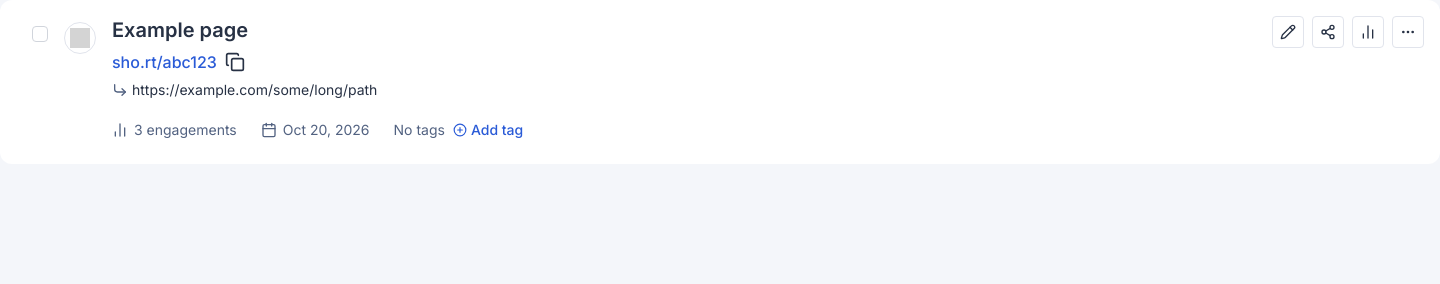
Scenario: LinkCard › disables Delete with a tooltip when the link is redirected
This screenshot has width=1440, height=284.
Click the button named "More" at {"x": 1408, "y": 32}, box 1392,16 -> 1424,48
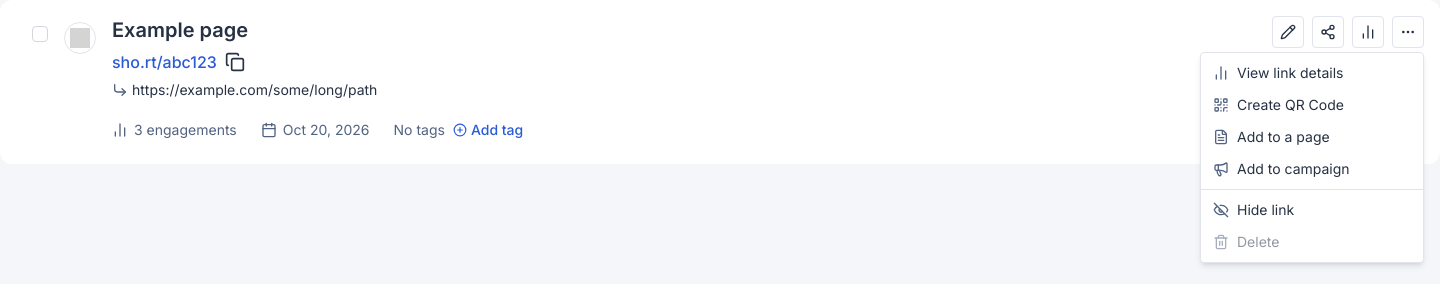
Hover over the menu item "Delete" at {"x": 1246, "y": 242}, box 1213,233 -> 1279,250
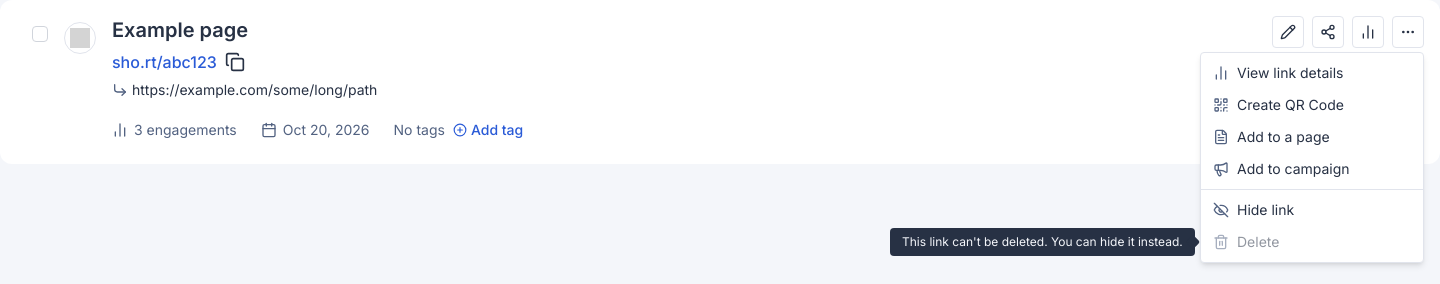
Check: the tooltip "This link can't be deleted. You can hide it instead." is shown, box 890,228 -> 1195,256
